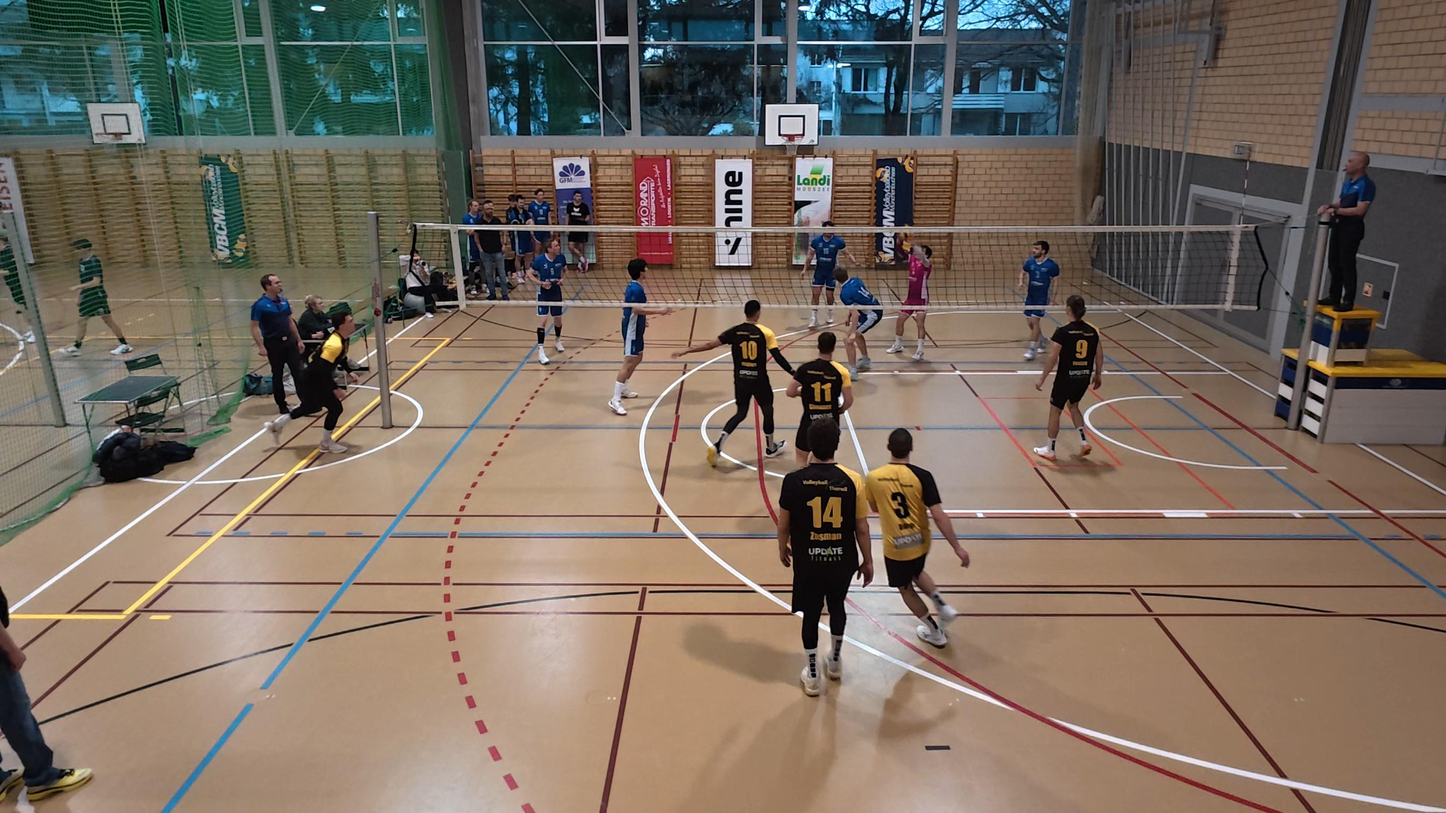Player: (775, 420, 871, 697), (868, 428, 969, 647), (674, 299, 799, 468), (268, 308, 358, 456), (1037, 295, 1106, 460), (608, 258, 675, 415), (784, 332, 854, 464), (836, 268, 884, 380), (528, 234, 568, 365), (804, 220, 850, 329), (1019, 240, 1060, 361)
Set: (880, 232, 938, 368)
ball: (890, 228, 914, 246)
